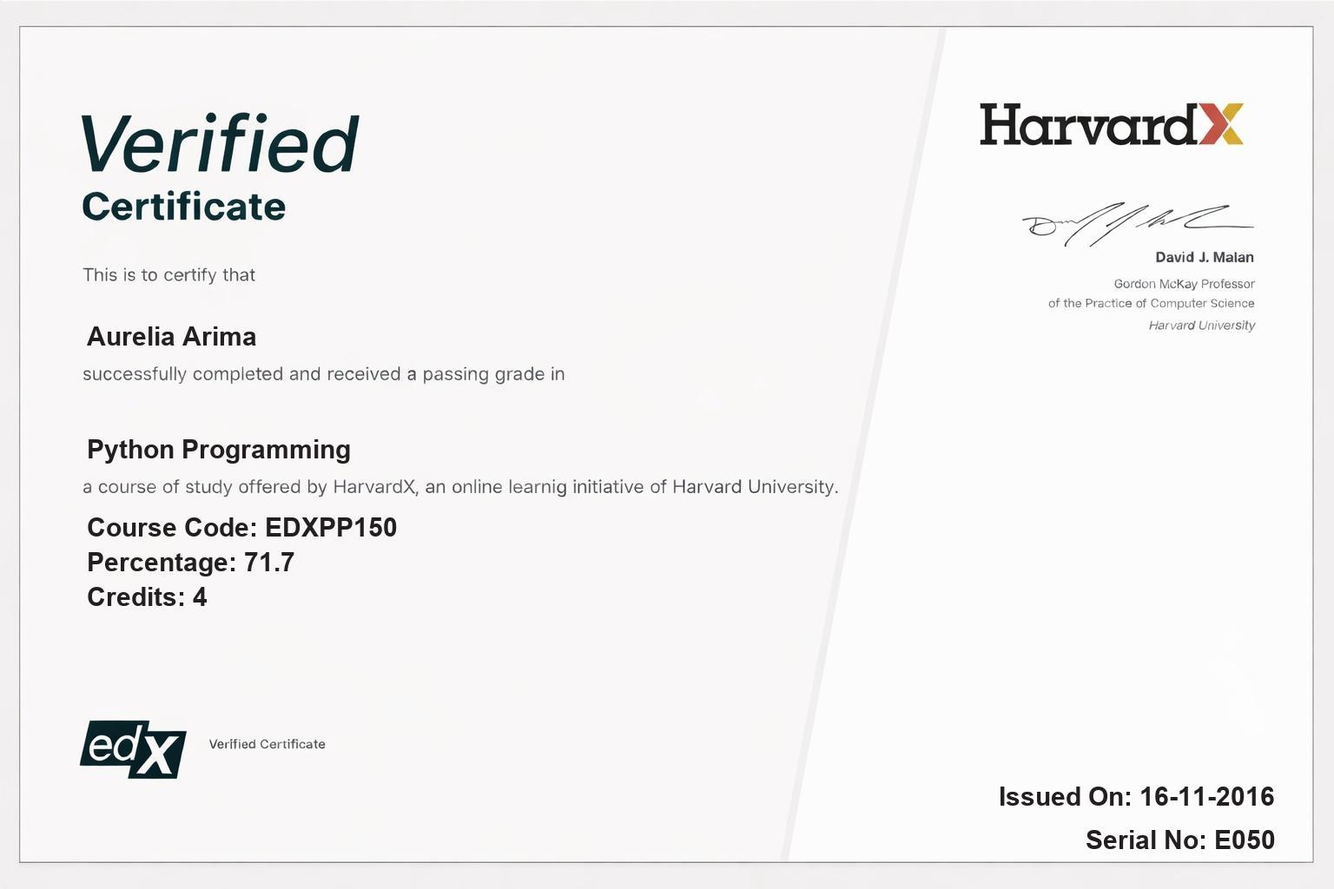Course Code: (261, 503, 418, 544)
Course Name: (80, 426, 367, 469)
Credits: (187, 581, 224, 618)
Issued On: (1136, 772, 1288, 814)
Percentage: (239, 542, 307, 578)
Serial No: (1209, 818, 1289, 862)
Student Name: (80, 317, 269, 354)
